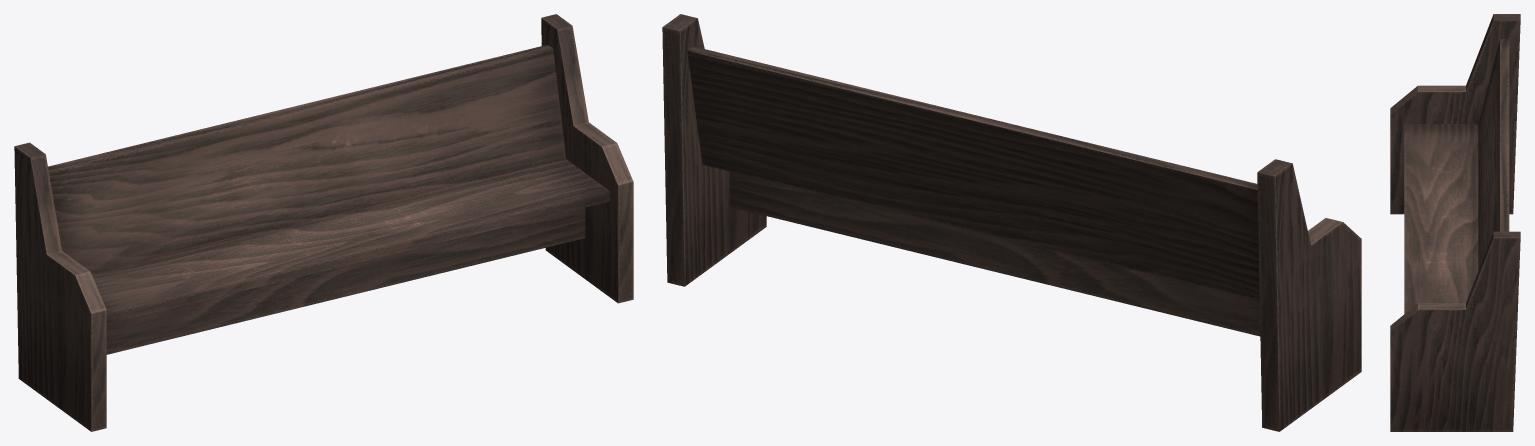
Rendered from Church.Bench.fbx.
3 renders of one model, left to right at view 1: azimuth 30°, elevation 25°; view 2: azimuth 150°, elevation 25°; view 3: azimuth 270°, elevation 25°, orthographic. The views are drawn at different scales.
Parts seen in each view (by area): view 1: Church.Bench; view 2: Church.Bench; view 3: Church.Bench.
Boxes of the visible parts, x1,y1,x2,y2 form: Church.Bench: (14,14,633,431); Church.Bench: (662,14,1361,431); Church.Bench: (1390,14,1520,431).
Size of the model in its own units: 221 by 89.53 by 54.49.
